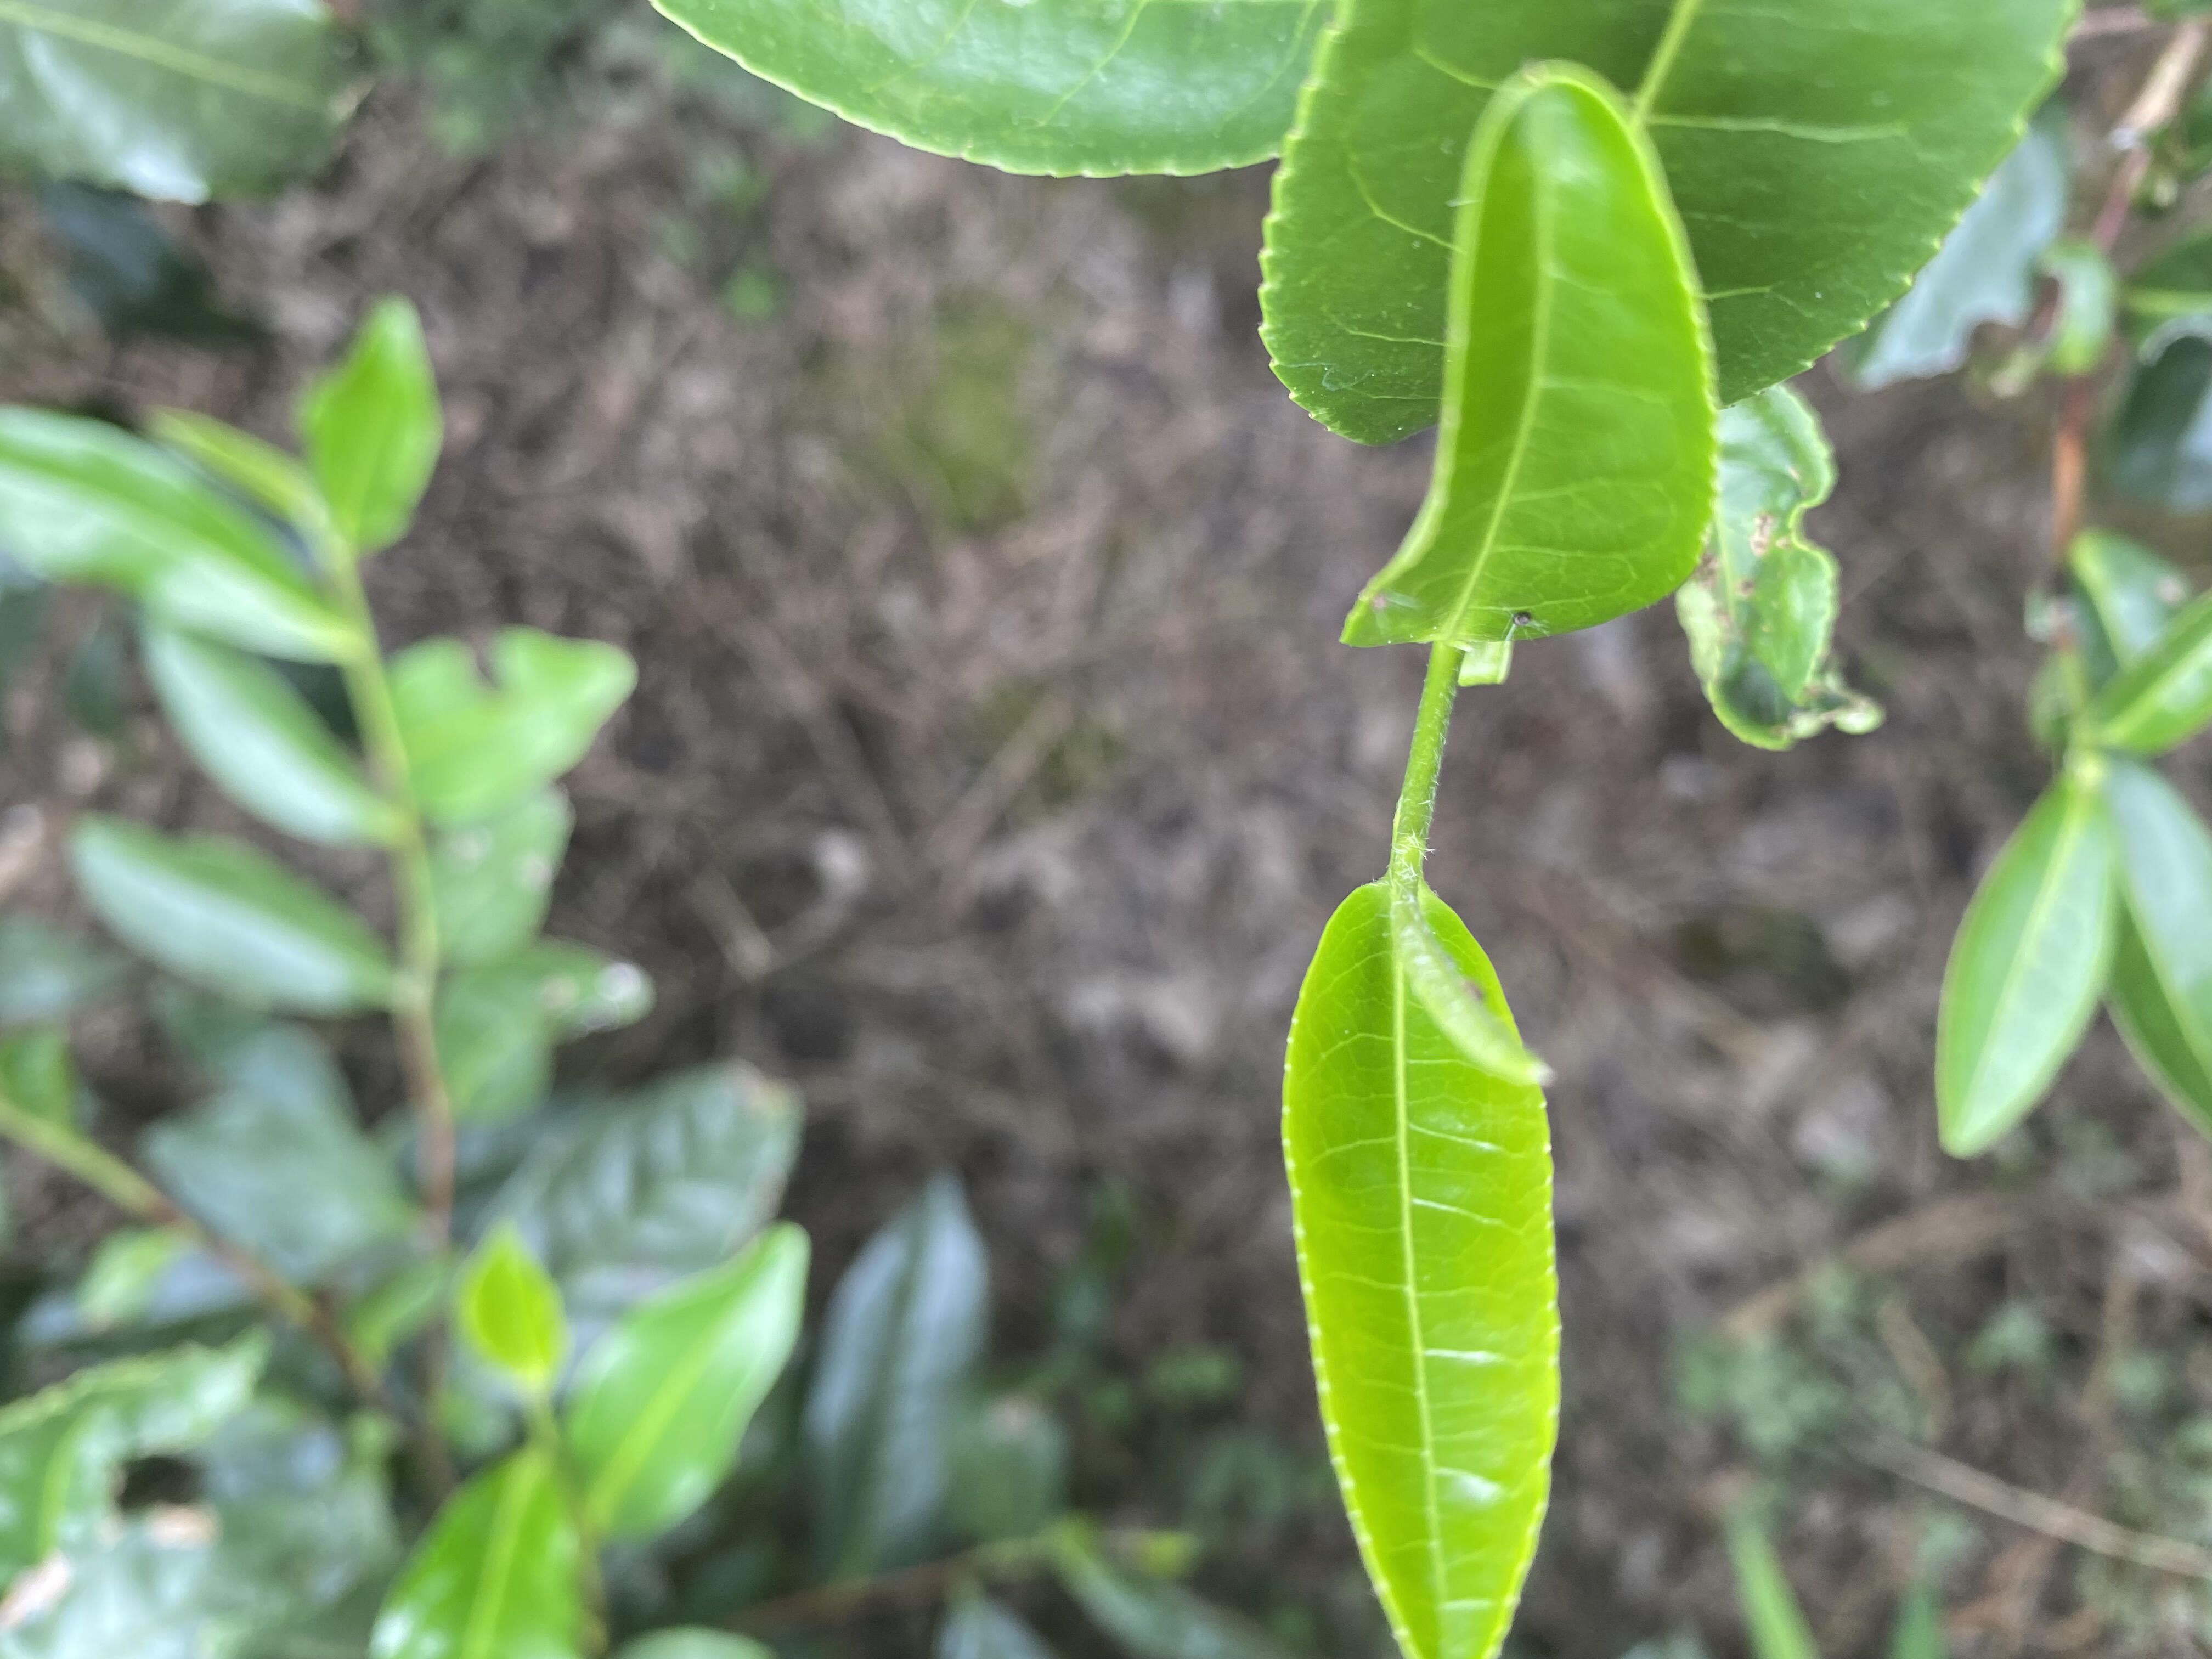healthy: (1273, 875, 1566, 1652), (1338, 71, 1716, 647)
